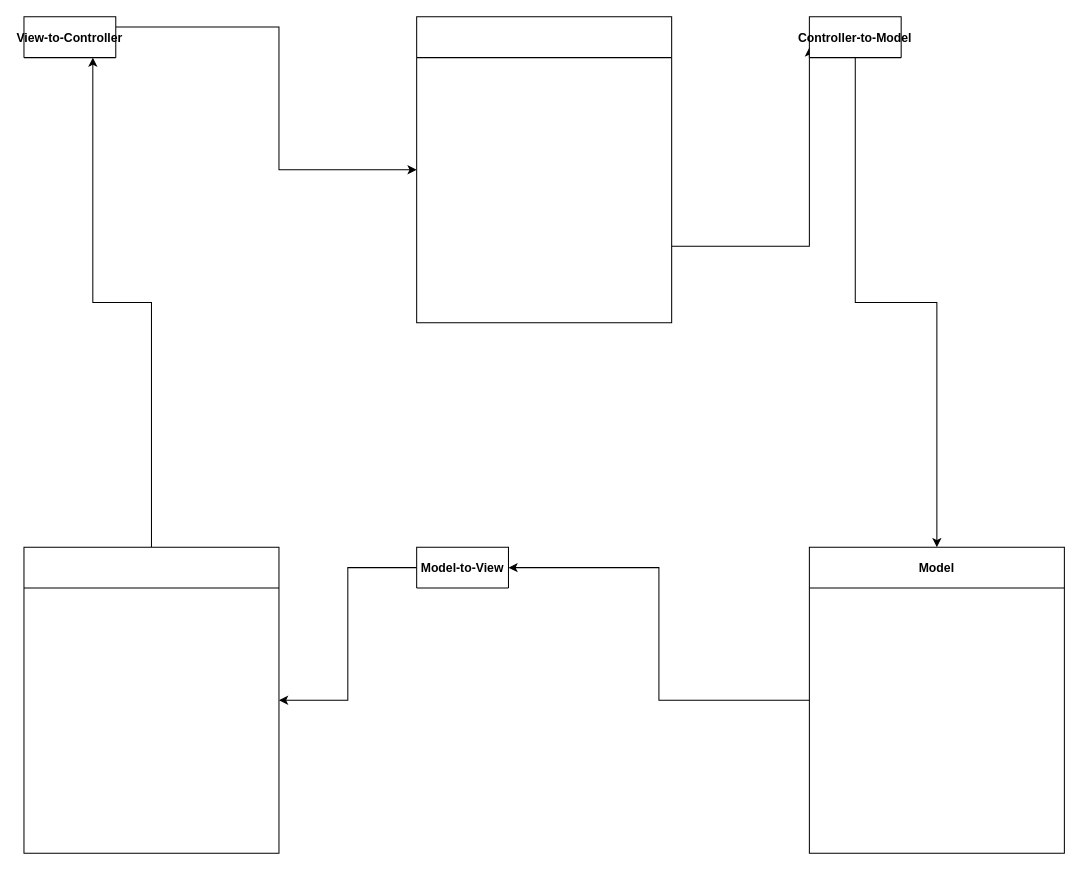
The diagram is 1081 pixels wide and 870 high, and some of its shapes have lost their labels. The shapes that lost their labels are listed below. From the top down, each one's box as (x1, y1, x2, y2) in pixels, then its label:
(416, 16, 672, 323): Controller
(23, 546, 279, 853): View
